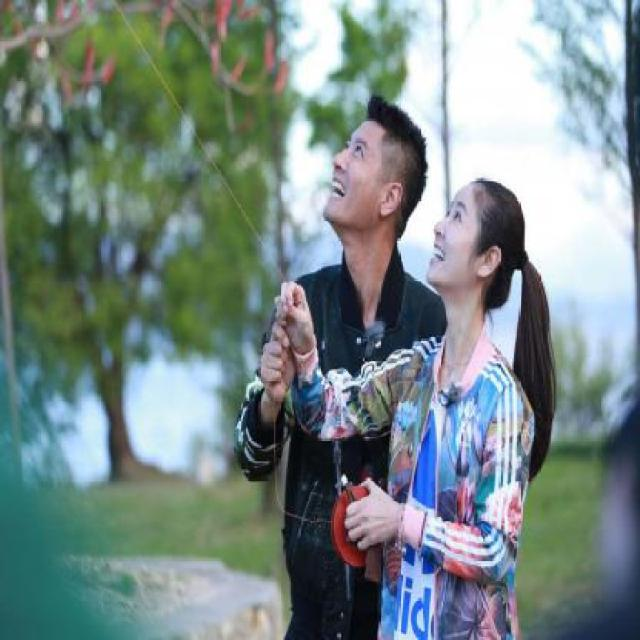Person: (254, 68, 408, 640), (386, 167, 569, 639)
